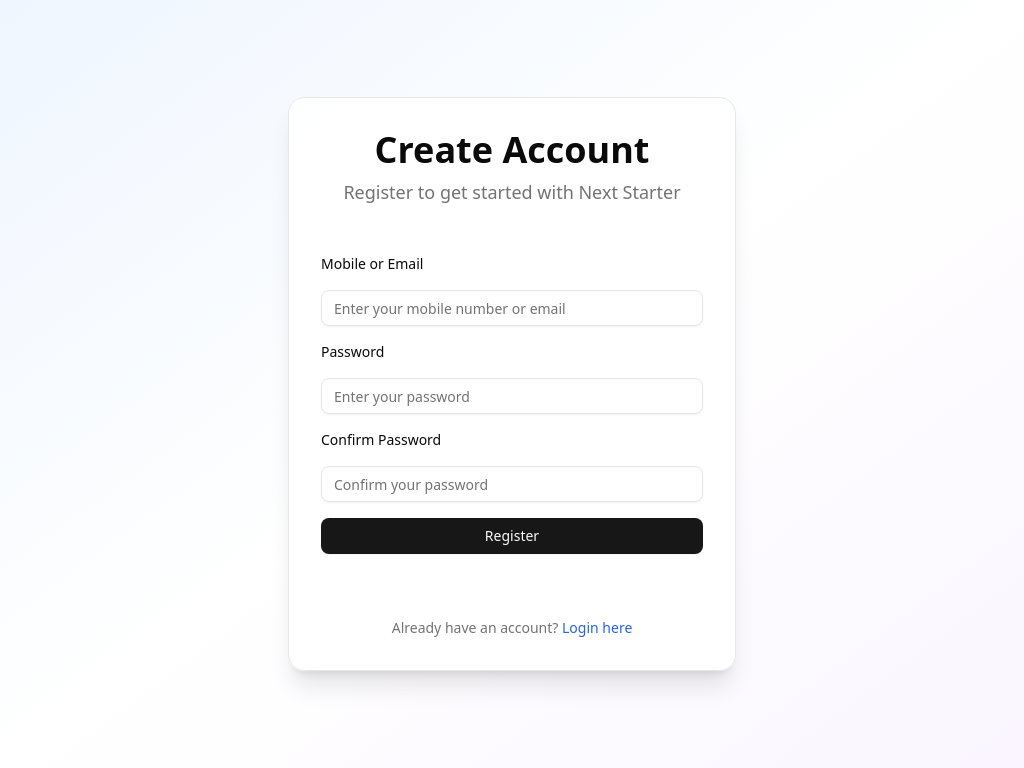
Test: RegisterPage › shows validation errors on empty submit
Step 1. Click the button "Register" → (512, 536), box [321, 518, 703, 554]
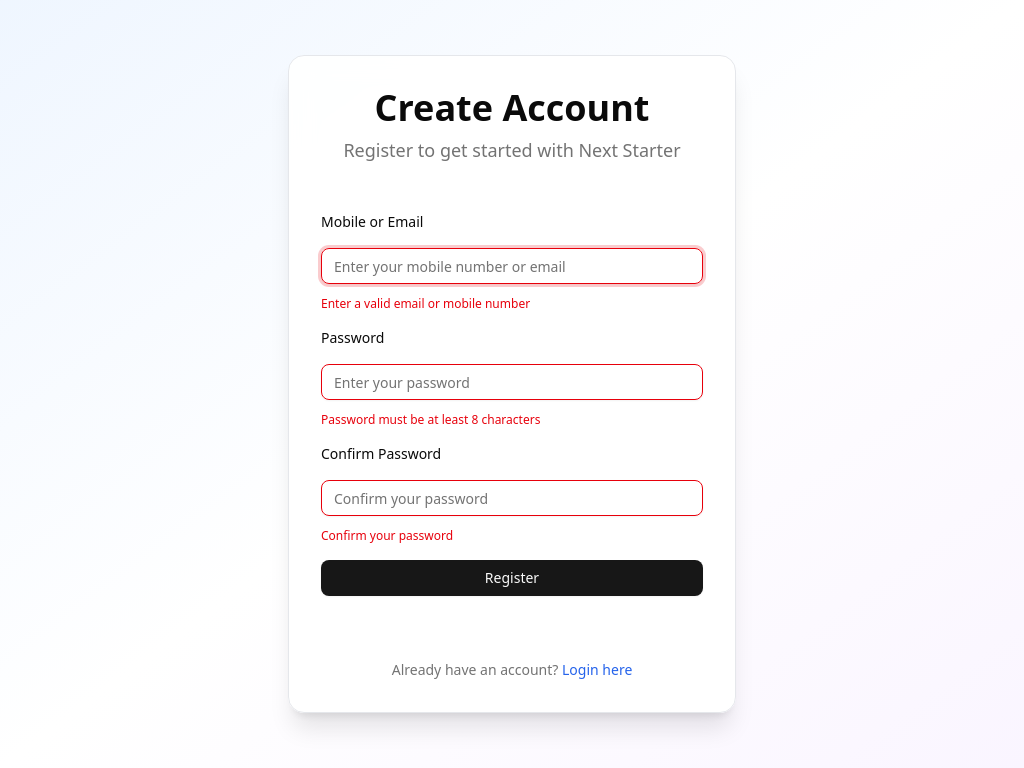
Check: the text "Enter a valid email or mobile number" is shown, box [321, 295, 530, 312]
